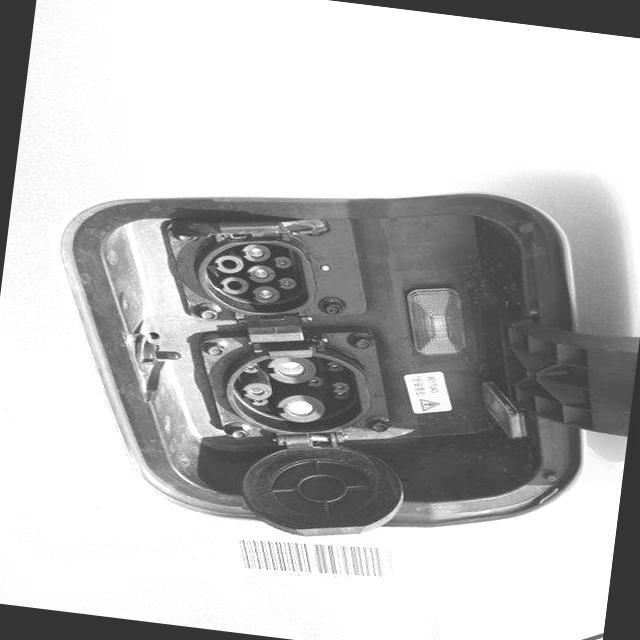GB-T: (189, 326, 383, 434)
